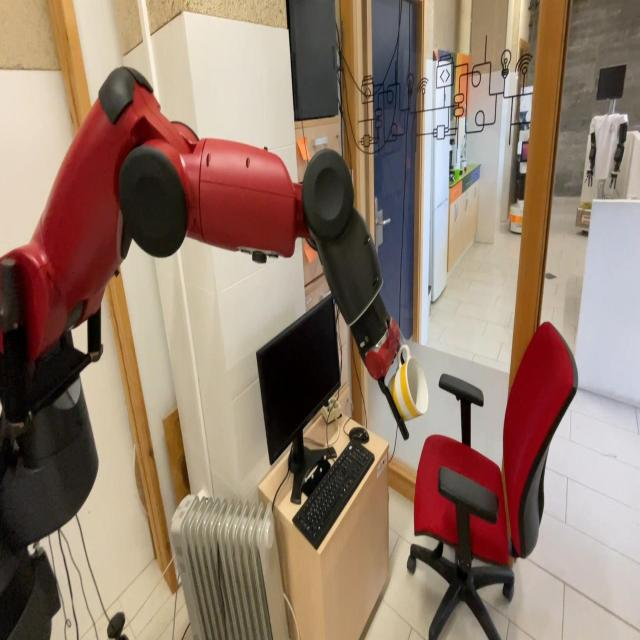cup: (385, 344, 431, 422)
